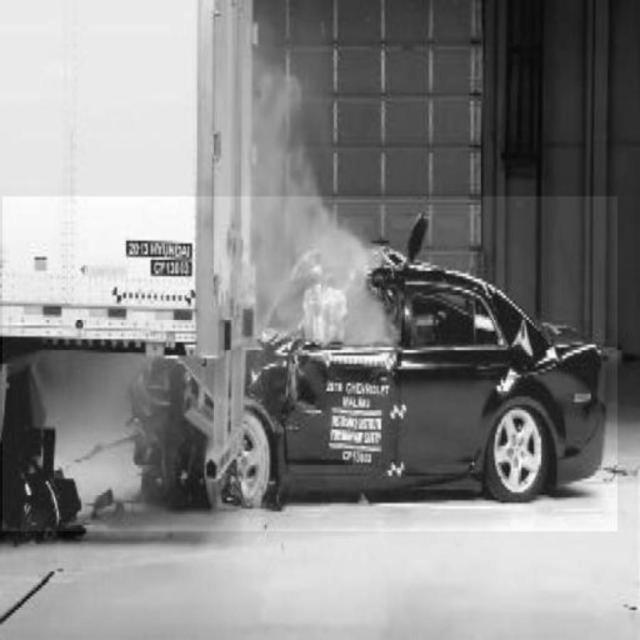accident: (2, 197, 618, 532)
